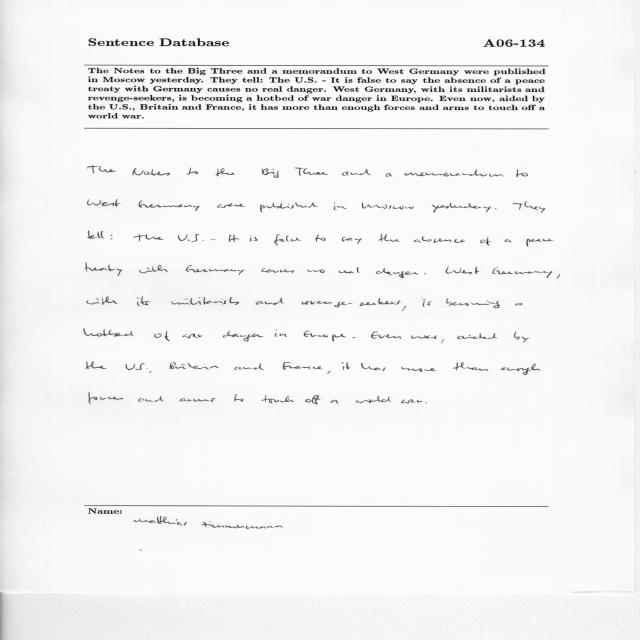word: (302, 298, 407, 311), (405, 169, 504, 177), (125, 363, 186, 374), (492, 268, 552, 279), (139, 201, 200, 211), (260, 203, 318, 213), (186, 265, 244, 275), (171, 297, 239, 305), (446, 298, 500, 308), (432, 203, 491, 212), (501, 363, 541, 375), (86, 263, 122, 276), (223, 331, 263, 342), (376, 268, 418, 278), (304, 331, 346, 341), (84, 329, 134, 337), (513, 201, 545, 213), (89, 393, 123, 404), (362, 203, 414, 210), (414, 236, 465, 243), (274, 234, 301, 246), (453, 362, 489, 371), (283, 362, 323, 370), (132, 168, 170, 176), (446, 267, 480, 275), (295, 168, 328, 176), (261, 395, 294, 403), (87, 297, 118, 305), (356, 396, 391, 403), (134, 234, 164, 242), (371, 331, 401, 339), (457, 333, 497, 339), (139, 265, 168, 273), (88, 200, 121, 207), (88, 166, 116, 174), (526, 239, 554, 247), (178, 234, 204, 242), (342, 169, 371, 176), (235, 363, 264, 370), (361, 363, 386, 371), (256, 298, 283, 305), (261, 168, 279, 178), (378, 234, 400, 242), (514, 332, 530, 343), (402, 367, 437, 372), (216, 168, 235, 177), (86, 362, 107, 370), (261, 269, 294, 274), (154, 331, 170, 341), (305, 395, 321, 405), (138, 396, 164, 402), (188, 363, 209, 370), (180, 398, 216, 402), (217, 203, 245, 208), (342, 237, 362, 244), (88, 231, 105, 239), (137, 296, 150, 306), (339, 267, 359, 273), (516, 168, 528, 177), (334, 202, 347, 210), (411, 335, 437, 339), (187, 168, 198, 176), (315, 234, 326, 242), (480, 237, 491, 245), (401, 400, 423, 404), (182, 334, 203, 338), (275, 330, 287, 337), (229, 235, 239, 243), (234, 394, 243, 402), (308, 269, 325, 273), (342, 362, 350, 370), (204, 364, 219, 368), (250, 235, 258, 242), (424, 299, 432, 306), (386, 173, 393, 177), (505, 239, 512, 243), (331, 400, 339, 403), (515, 303, 522, 306), (441, 339, 445, 343), (557, 274, 560, 279), (423, 301, 425, 307), (327, 371, 331, 374), (111, 235, 113, 239), (211, 239, 215, 240), (352, 337, 356, 338), (425, 402, 427, 404), (495, 208, 497, 209), (424, 273, 426, 274)
